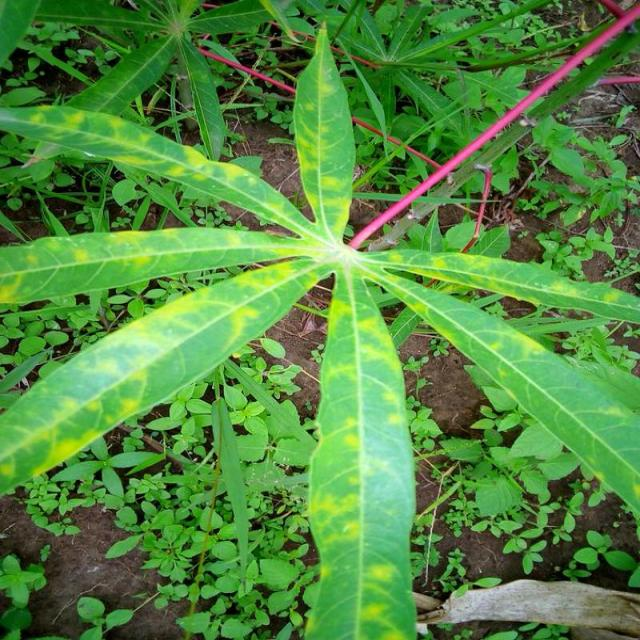cassava leaf: (2, 19, 640, 636), (304, 260, 419, 638)
